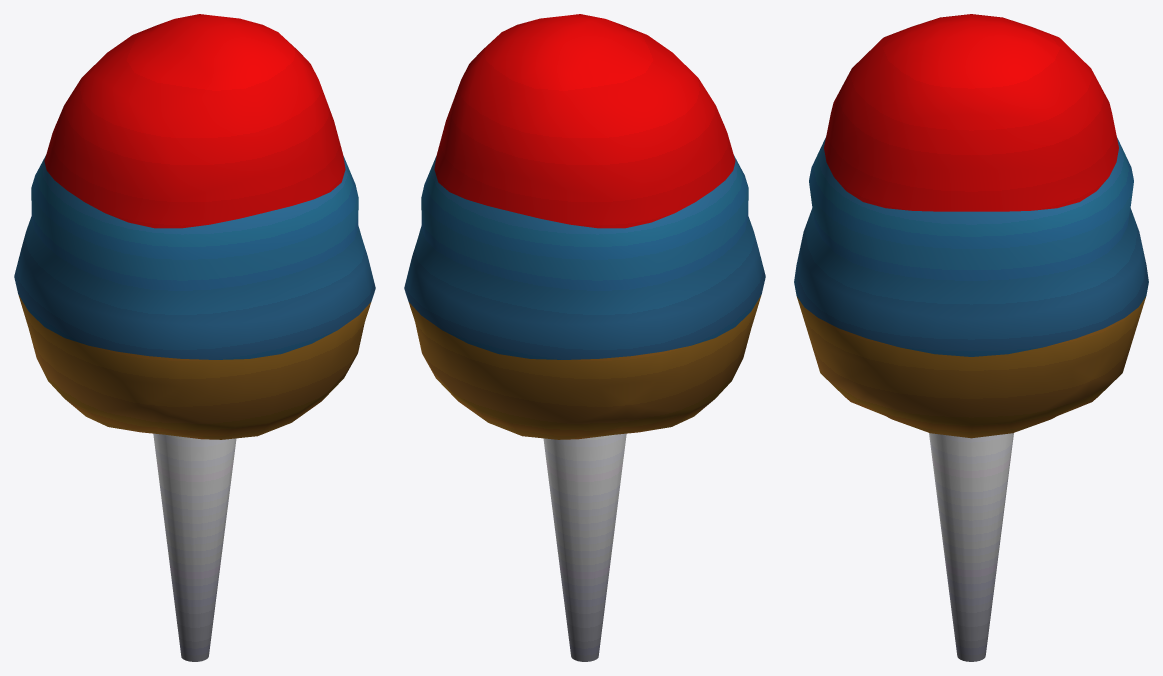
File: SM_Fairyfloss_Muticolour.fbx
3 renders of one model, left to right at view 1: azimuth 30°, elevation 25°; view 2: azimuth 150°, elevation 25°; view 3: azimuth 270°, elevation 25°, orthographic. The views are drawn at different scales.
Parts seen in each view (by area): view 1: SM_fairyfloss; view 2: SM_fairyfloss; view 3: SM_fairyfloss.
Part boxes in pixels (x1=…): SM_fairyfloss: x1=14, y1=14, x2=375, y2=661; SM_fairyfloss: x1=404, y1=14, x2=765, y2=661; SM_fairyfloss: x1=794, y1=14, x2=1148, y2=661.
Bounding box in the file's own units: 3.04 × 6.05 × 3.04.
